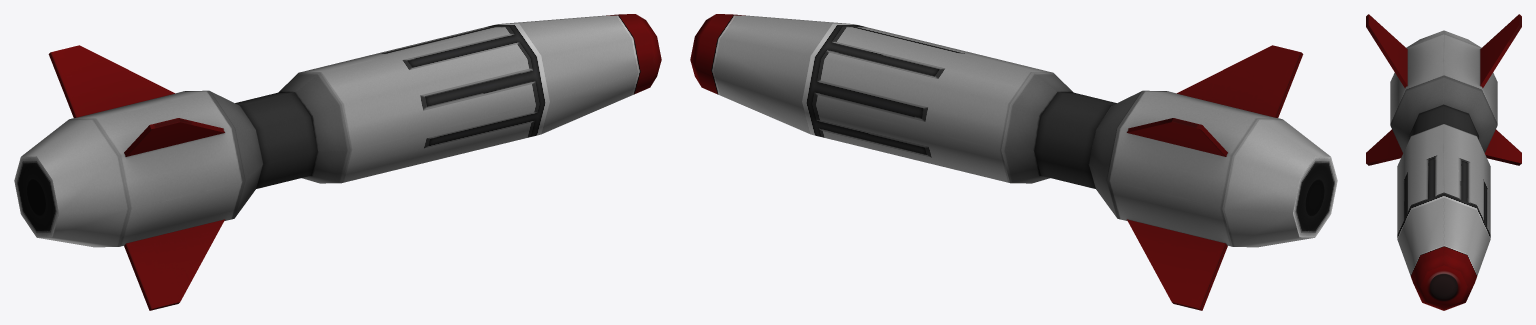
File: missile_v3.fbx
3 views of the same model, side by side, from view 1: azimuth 30°, elevation 25°; view 2: azimuth 150°, elevation 25°; view 3: azimuth 270°, elevation 25° (orthographic). The views are drawn at different scales.
Parts seen in each view (by area): view 1: missile; view 2: missile; view 3: missile.
Part boxes in pixels (x1,y1,x2,y2): missile: [14, 14, 661, 310]; missile: [690, 14, 1337, 310]; missile: [1366, 14, 1521, 310].
Bounding box in the file's own units: 3.79 × 1.11 × 1.11.
